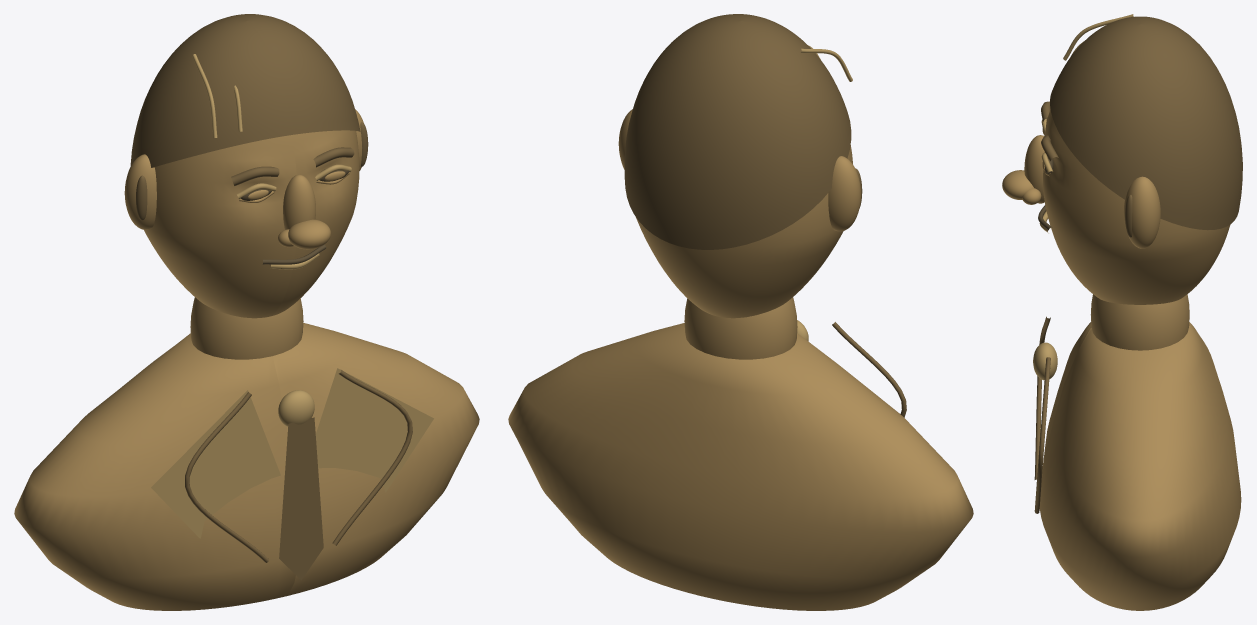
File: carlos.glb
3 views of the same model, side by side, from view 1: azimuth 30°, elevation 25°; view 2: azimuth 150°, elevation 25°; view 3: azimuth 270°, elevation 25° (orthographic). The views are drawn at different scales.
Parts seen in each view (by area): view 1: carlos; view 2: carlos; view 3: carlos.
Part boxes in pixels (x1,y1,x2,y2): carlos: (14, 14, 479, 610); carlos: (508, 14, 973, 610); carlos: (1002, 14, 1242, 610).
Size of the model in its own units: 1.22 by 1.4 by 0.5837.
